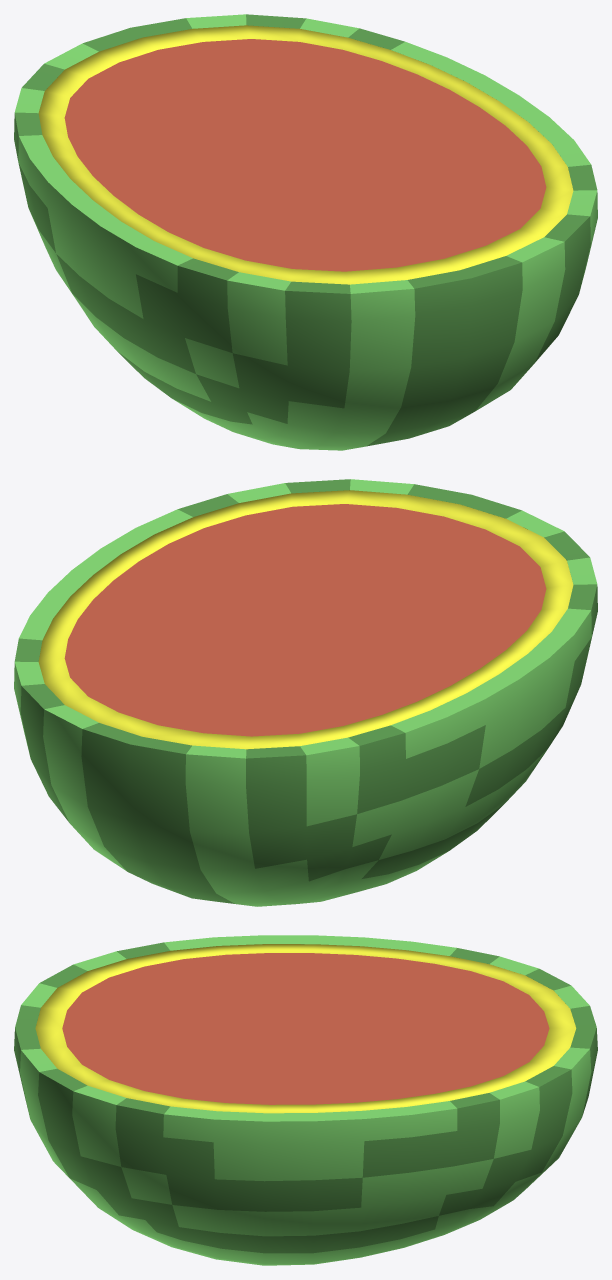
Rendered from WaterMelon (1).fbx.
3 renders of one model, top to bottom at view 1: azimuth 30°, elevation 25°; view 2: azimuth 150°, elevation 25°; view 3: azimuth 270°, elevation 25°, orthographic. The views are drawn at different scales.
Parts seen in each view (by area): view 1: vo1, vo3, vo2; view 2: vo1, vo3, vo2; view 3: vo1, vo3, vo2.
Part boxes in pixels (bbox=[...]): vo1: bbox=[14, 14, 597, 450]; vo3: bbox=[64, 39, 546, 271]; vo2: bbox=[38, 25, 573, 284]; vo1: bbox=[14, 479, 597, 906]; vo3: bbox=[64, 504, 546, 736]; vo2: bbox=[38, 490, 573, 749]; vo1: bbox=[14, 935, 597, 1265]; vo3: bbox=[62, 953, 549, 1104]; vo2: bbox=[35, 944, 576, 1113].
Size of the model in its own units: 61.9 by 33.41 by 81.86.
